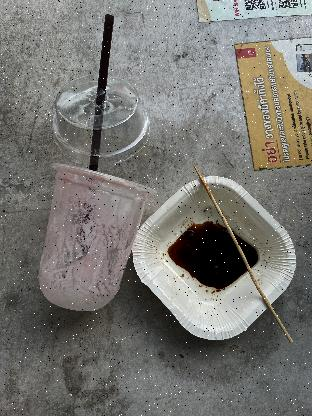Others: (125, 162, 312, 361), (28, 158, 161, 324), (192, 167, 301, 350), (42, 76, 153, 169), (81, 9, 121, 181)
